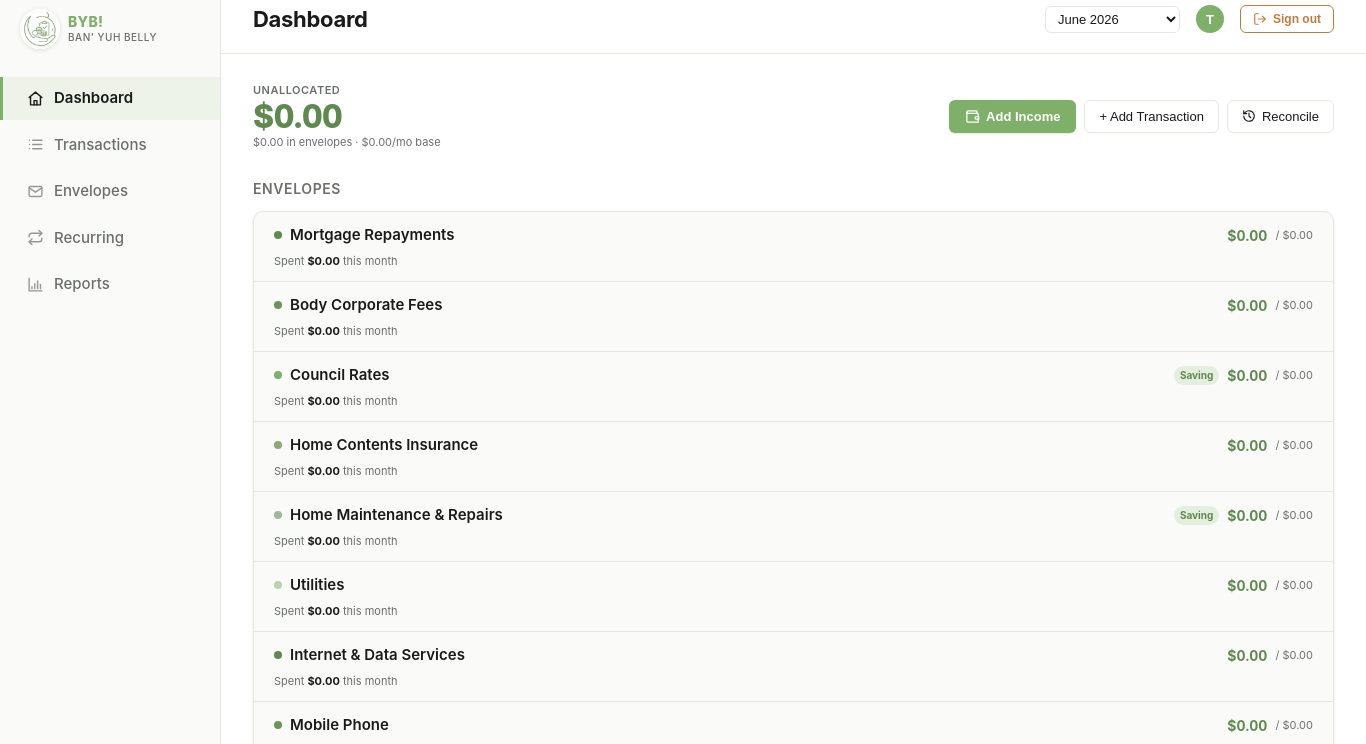
Test: Transactions › adding an expense updates the running balance
This screenshot has width=1366, height=744.
Click the button with test id "nav-transactions". click: coordinates (87, 144)
box: [27,134,146,154]
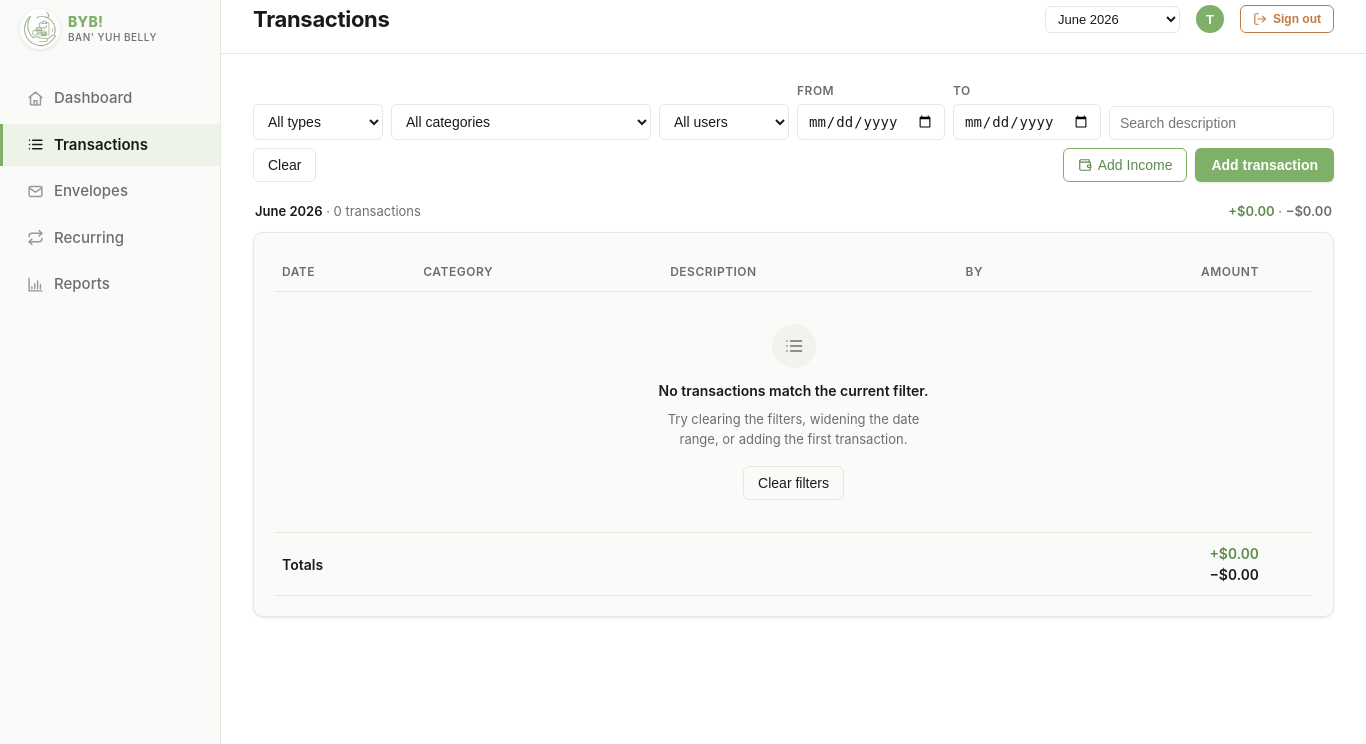
Click the button with test id "add-tx". click: coordinates (1265, 165)
box: [1195,148,1334,182]
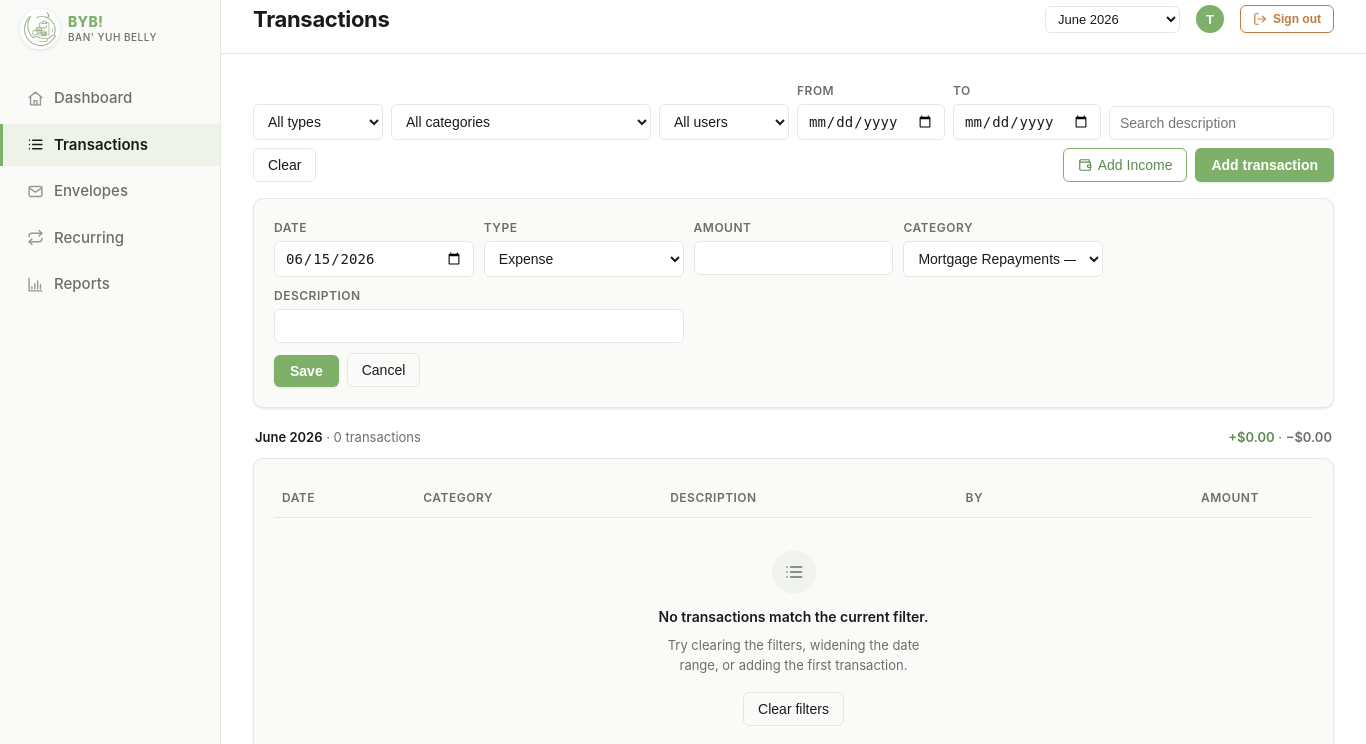
Type "50" into the number field with test id "tx-amount". click: coordinates (794, 258)
box: [694,241,893,275]
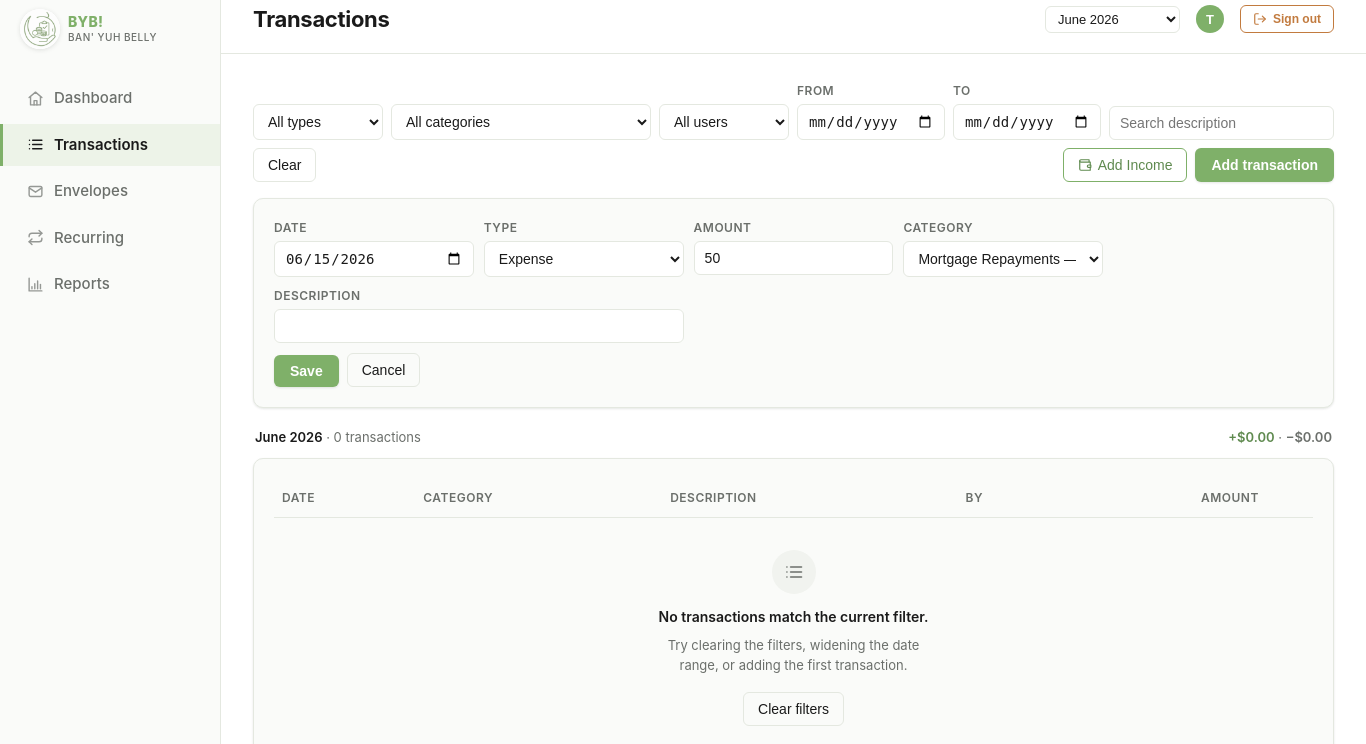
Type "Test expense" into the field with test id "tx-description". click: coordinates (479, 326)
box: [274,309,684,343]
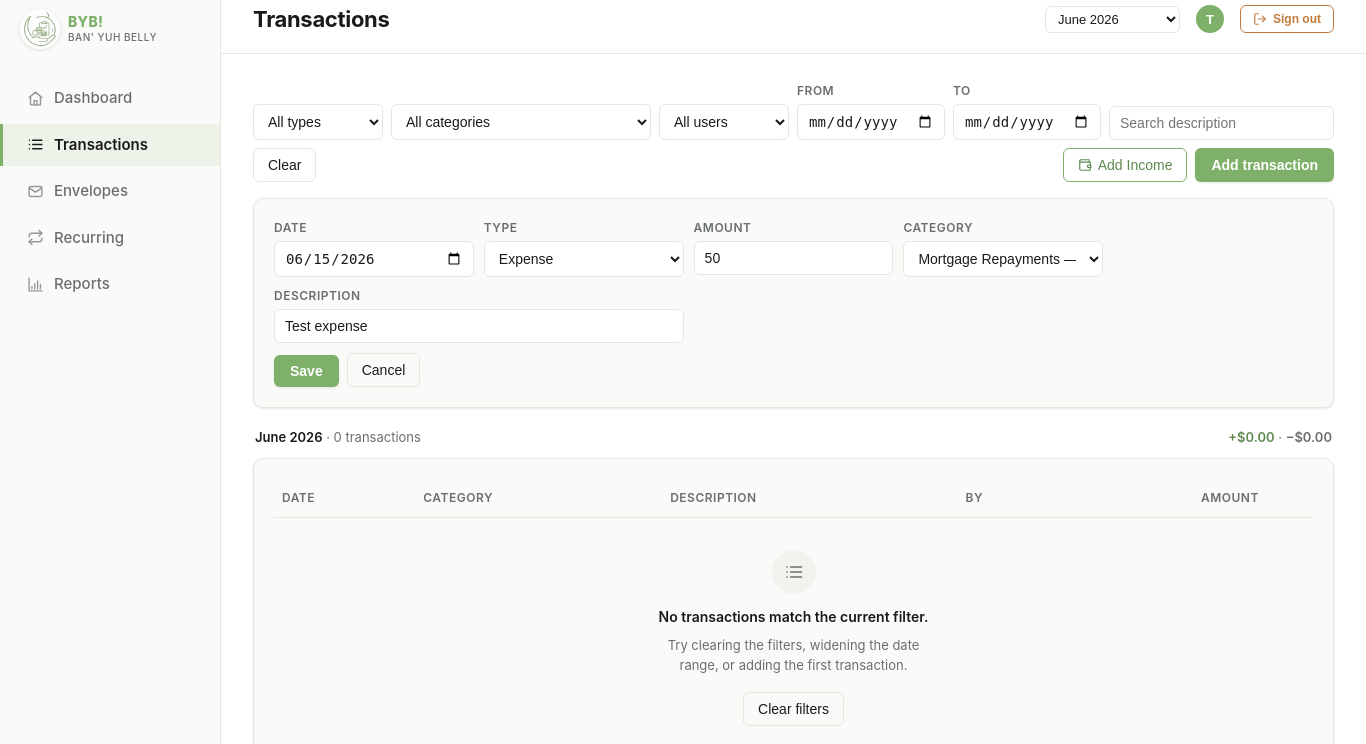
Click the button with test id "tx-save". click: coordinates (306, 371)
box: [274,355,339,387]
(page scrolled)
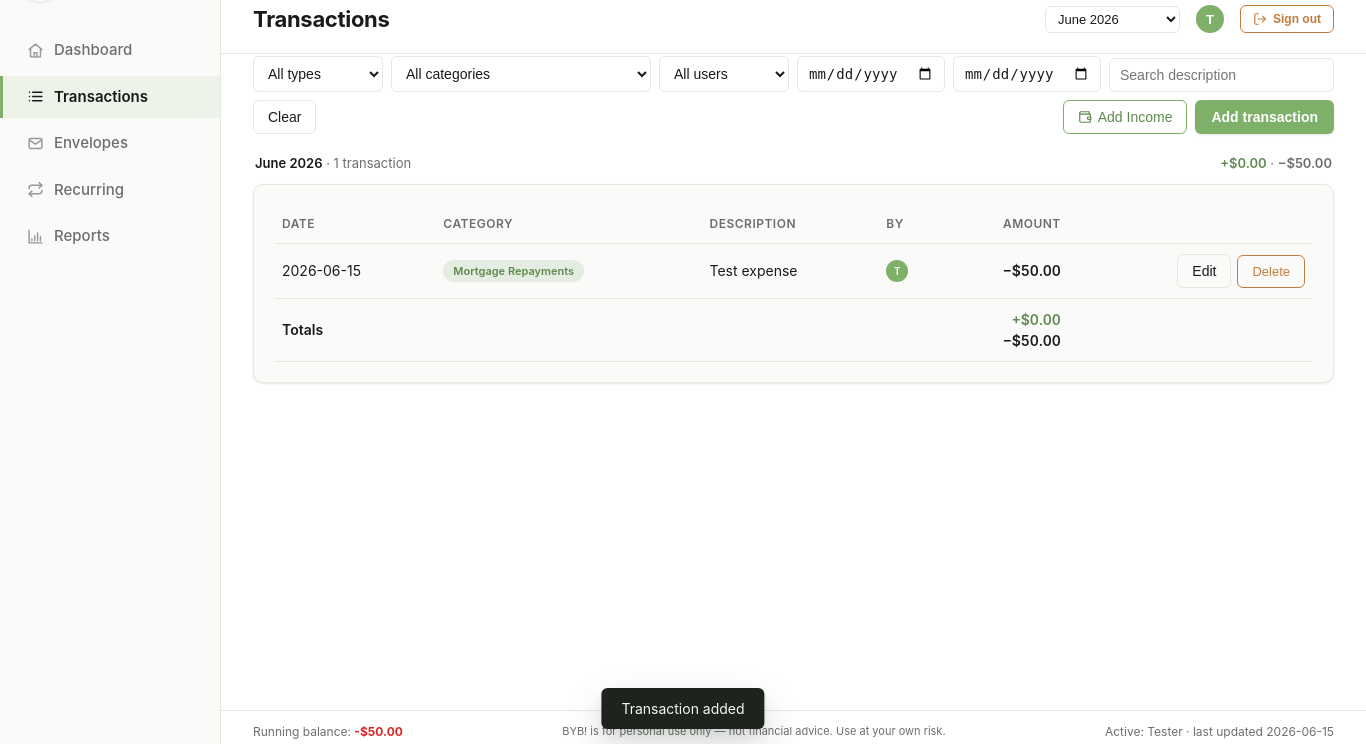
Now the text with test id "running-balance" reads "-$50.00", box [354,724,403,739]
